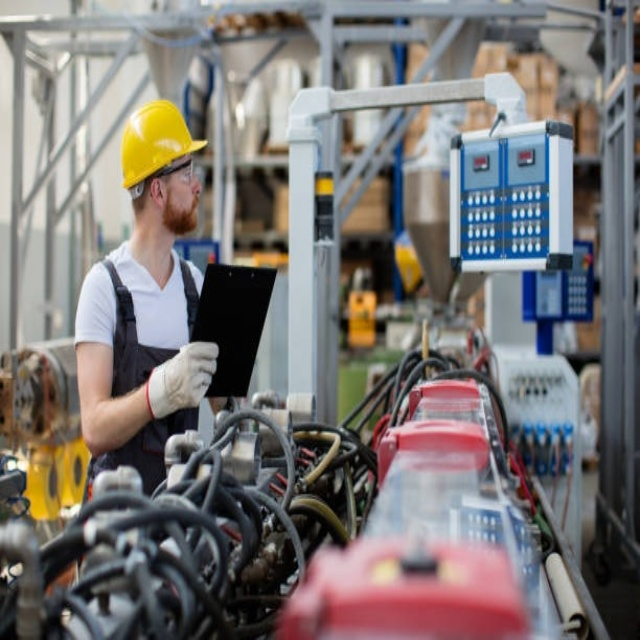Gafas: (166, 161, 199, 186)
Guantes: (145, 341, 219, 420)
Sin_mascara: (180, 188, 200, 224)
